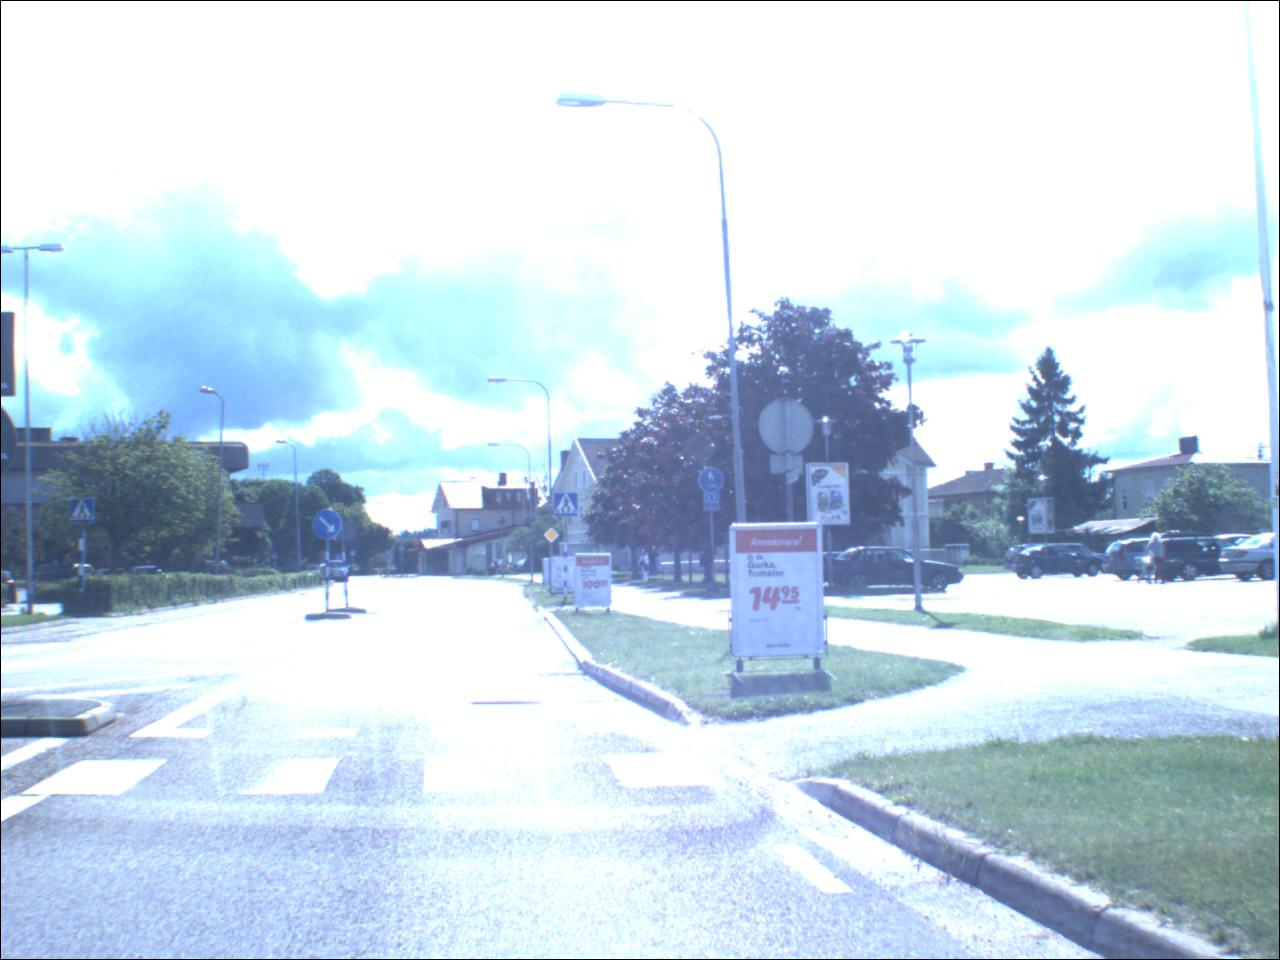PASS_RIGHT_SIDE: (313, 511, 346, 542)
PEDESTRIAN_CROSSING: (72, 500, 99, 526), (557, 495, 580, 518)
PRIORITY_ROAD: (545, 528, 564, 545)
